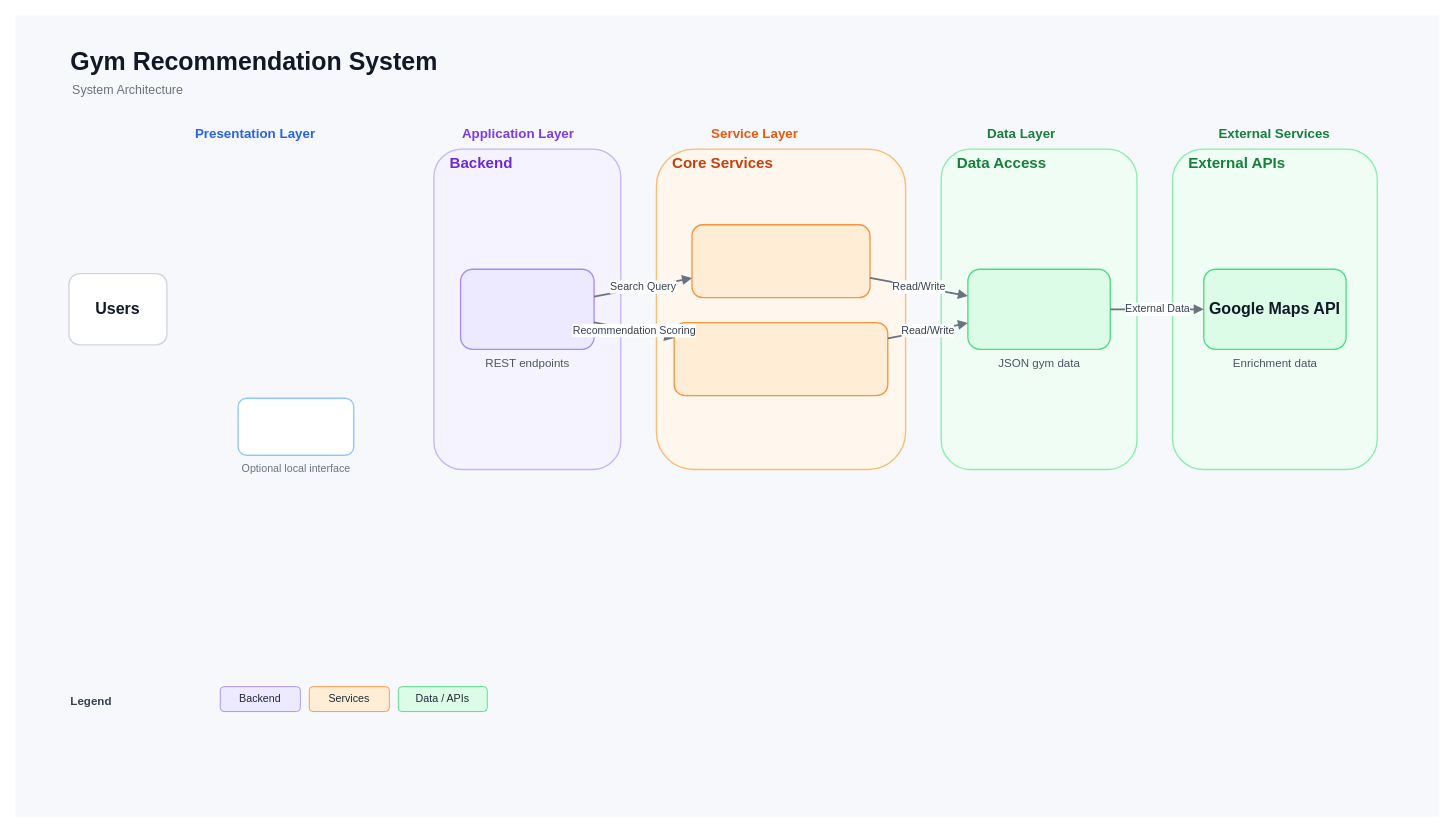
This 1454x831 diagram has some shape labels left out. Here are the shapes that lost their labels. From the top down, the centre of each, then its label:
At [780,261]: "Search Engine".
At [527,309]: "FastAPI API".
At [1039,309]: "Database Layer".
At [780,359]: "Recommendation Engine".
At [295,426]: "Console App".
